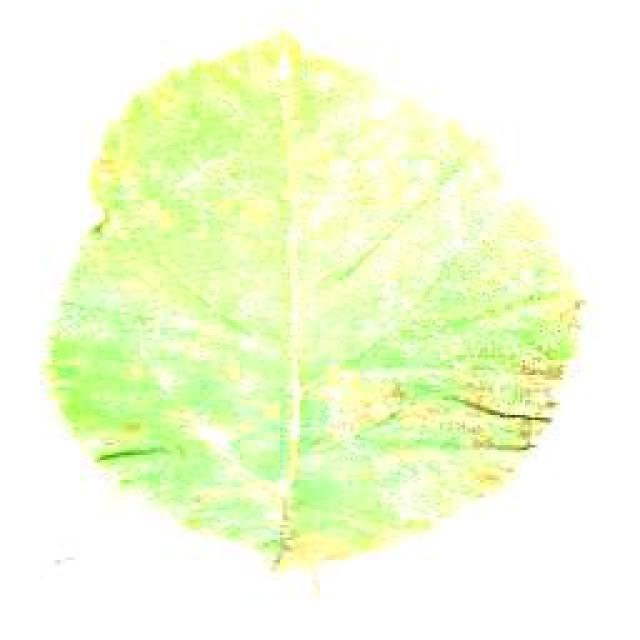apple scab disease: (40, 27, 585, 575)
